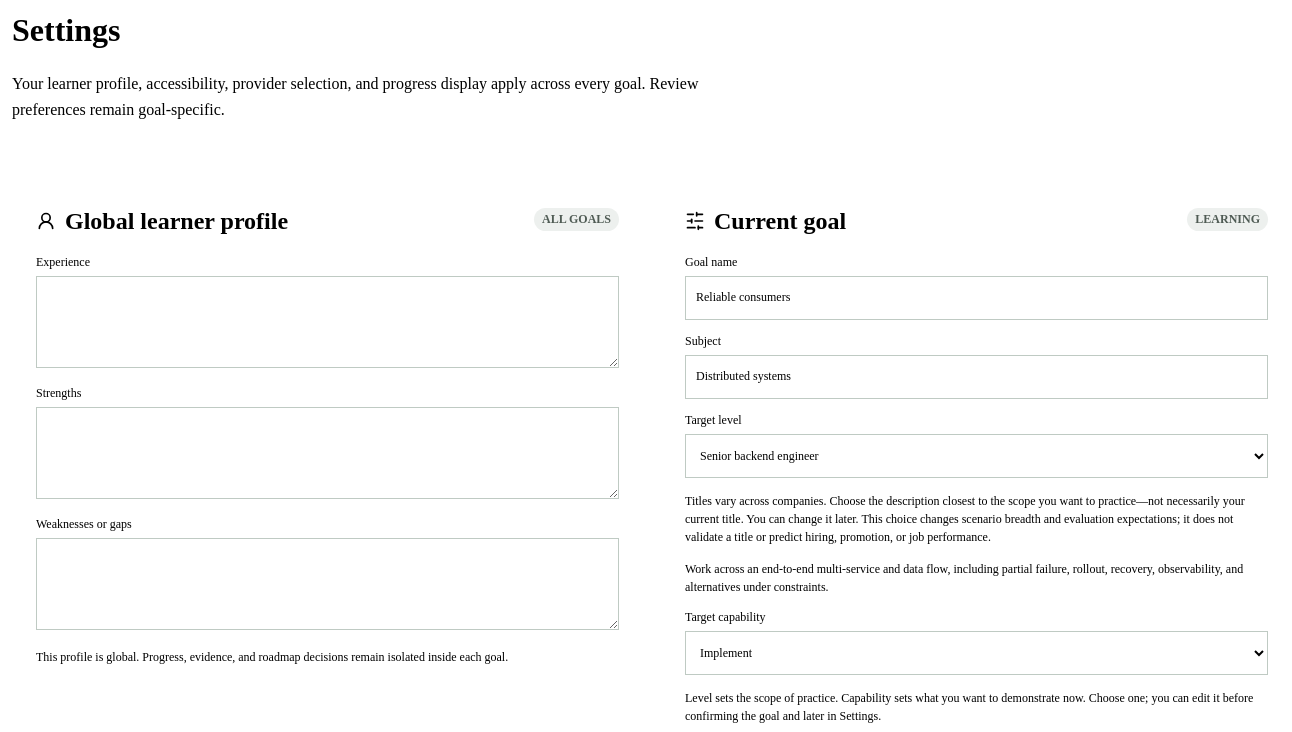
Test: server-backed settings and data lifecycle › reloads the current goal and surfaces a stale revision failure
The image size is (1292, 732).
Replace the text in the field labelled "Goal name" with "My stale edit": (976, 298) [685,276,1268,320]
(page scrolled)
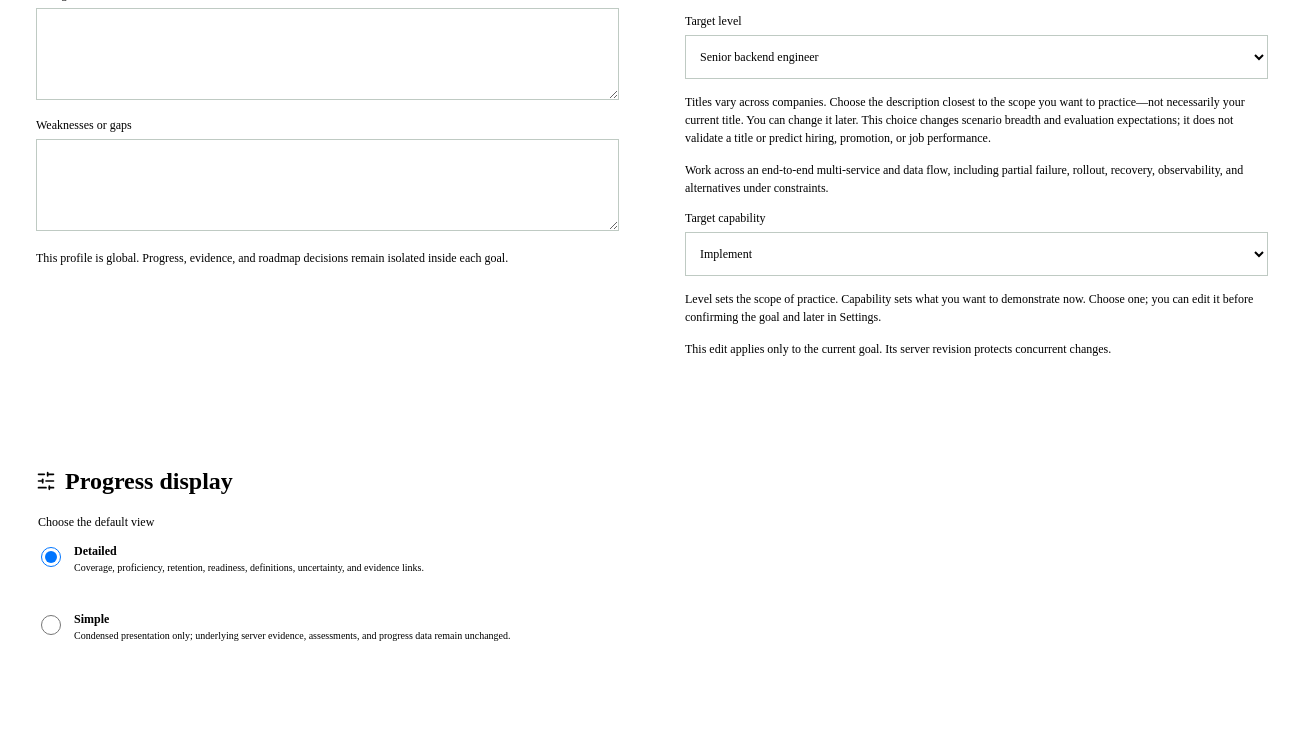
Click the button "Save current goal": (750, 380) [685,358,814,402]
(page scrolled)
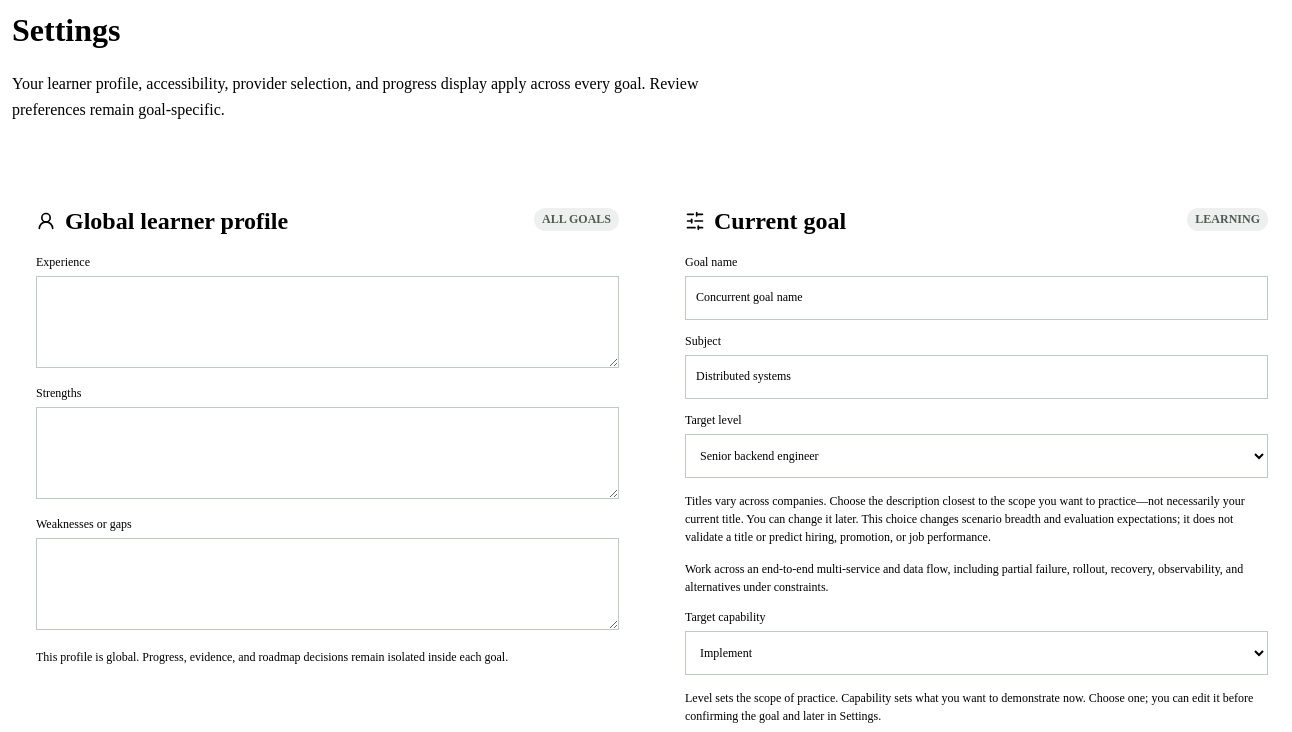
Now the field labelled "Goal name" holds "Concurrent goal name", box [685,276,1268,320]
